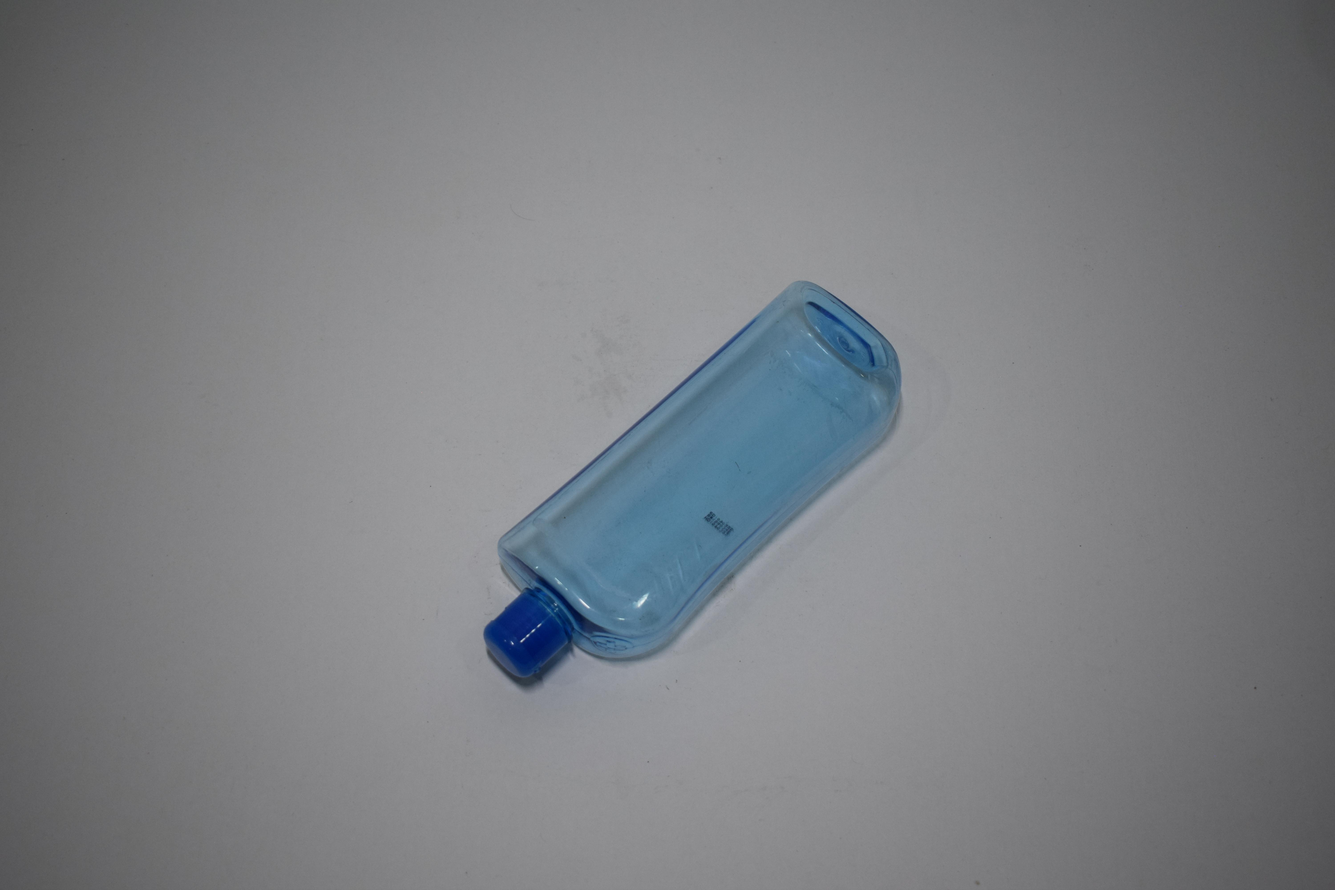plastic: (481, 281, 904, 693)
